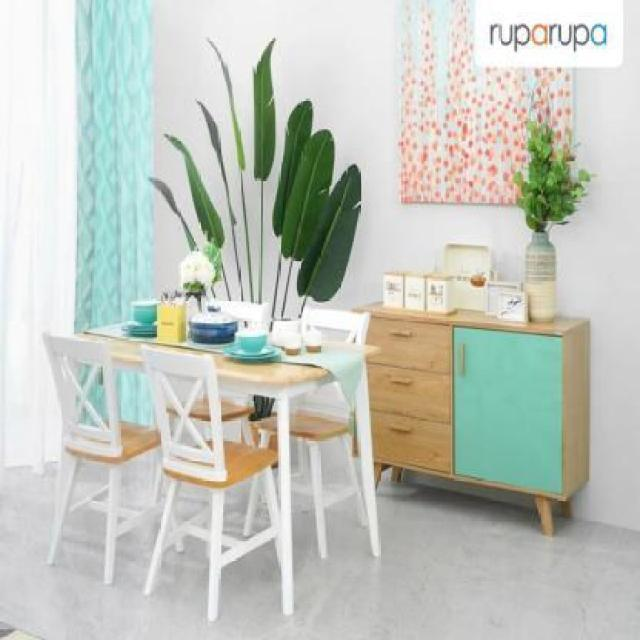tables: (74, 317, 381, 611)
